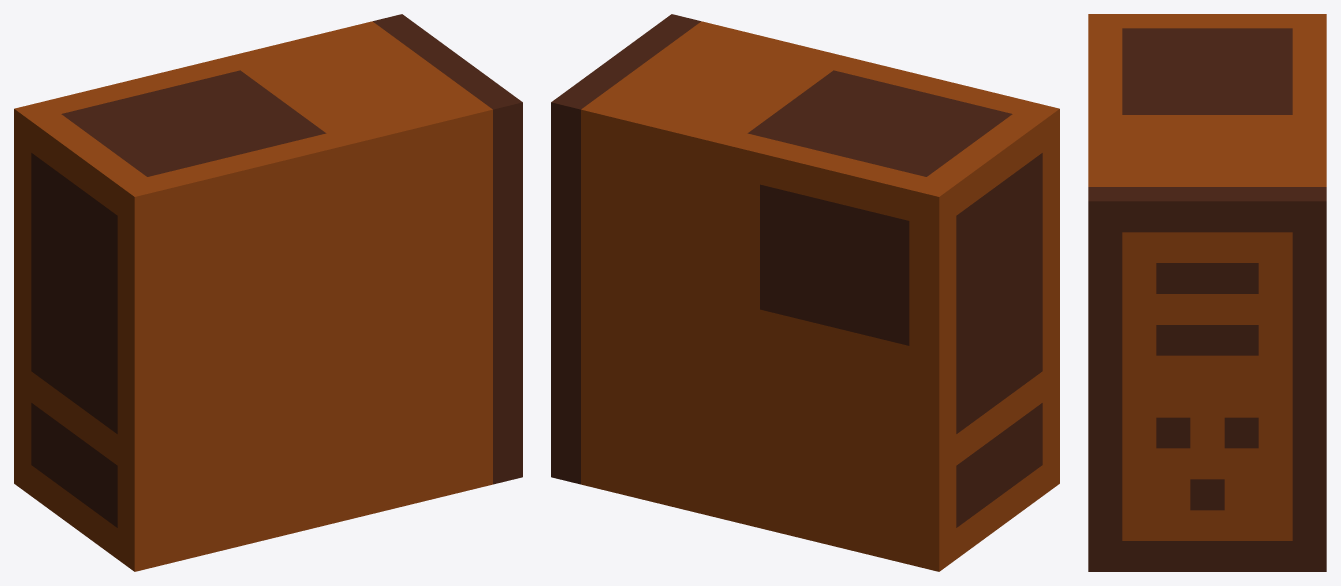
The model's file is System unit.obj.
The picture shows the model from 3 angles, left to right: view 1: azimuth 30°, elevation 25°; view 2: azimuth 150°, elevation 25°; view 3: azimuth 270°, elevation 25°; orthographic projection.
Size of the model in its own units: 1.3 by 1.2 by 0.7.
1 material, 1 textured.
